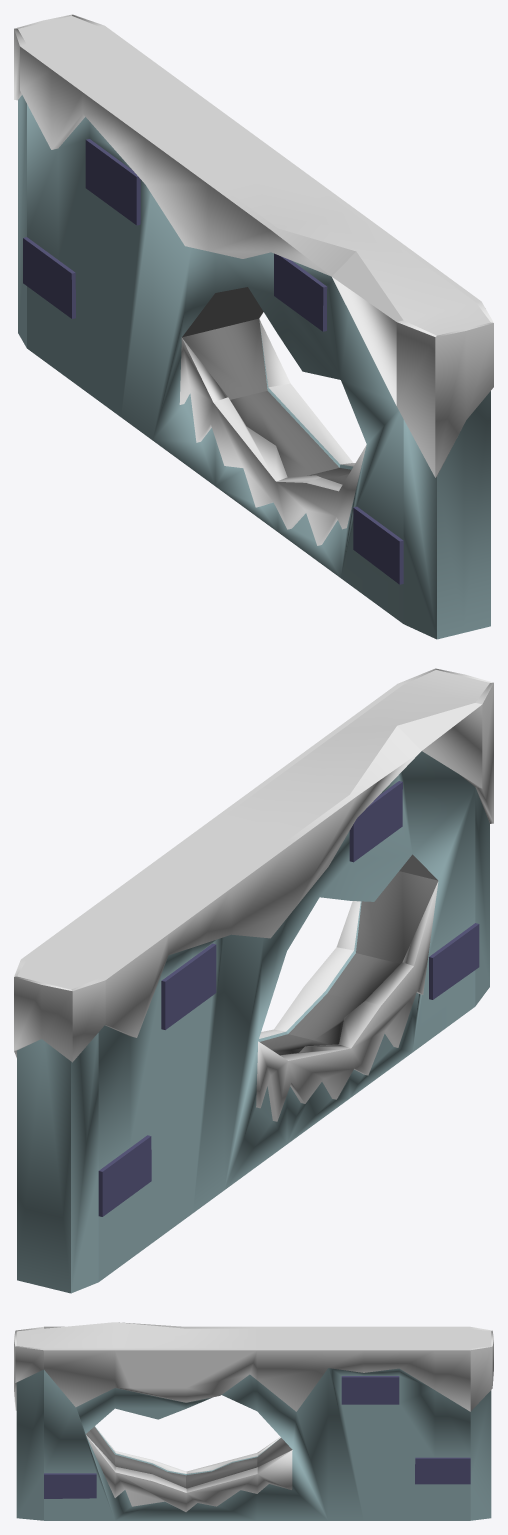
File: CastleWall_normal_hole_snow.fbx
The picture shows the model from 3 angles, top to bottom: view 1: azimuth 30°, elevation 25°; view 2: azimuth 150°, elevation 25°; view 3: azimuth 270°, elevation 25°; orthographic projection. The views are drawn at different scales.
Visible parts, largest first — view 1: Куб; view 2: Куб; view 3: Куб.
Part boxes in pixels (x1=…): Куб: x1=14, y1=14, x2=493, y2=639; Куб: x1=14, y1=668, x2=493, y2=1293; Куб: x1=14, y1=1322, x2=493, y2=1520.
Size of the model in its own units: 120 by 425 by 1011.
